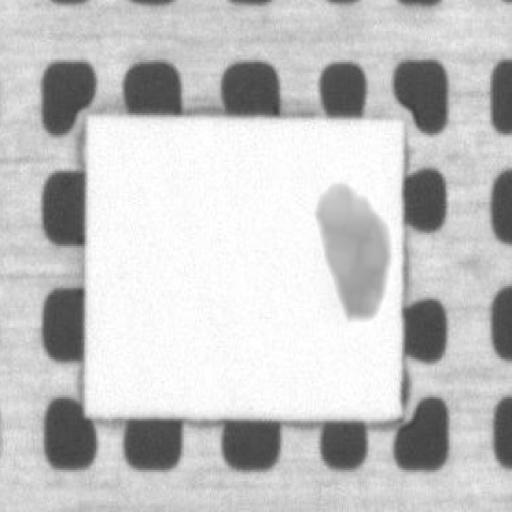DIE_INK: (406, 128, 512, 247)
